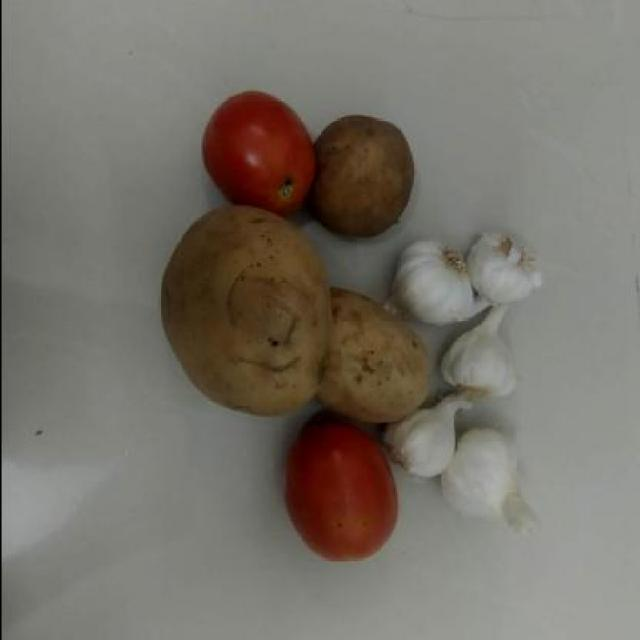Garlic: (438, 425, 517, 560), (442, 318, 512, 404), (392, 242, 471, 318), (464, 234, 542, 306), (386, 408, 459, 483)
Potato: (152, 202, 325, 420), (312, 292, 437, 423), (309, 98, 417, 244)
Tomato: (285, 411, 403, 580), (198, 90, 316, 202)
